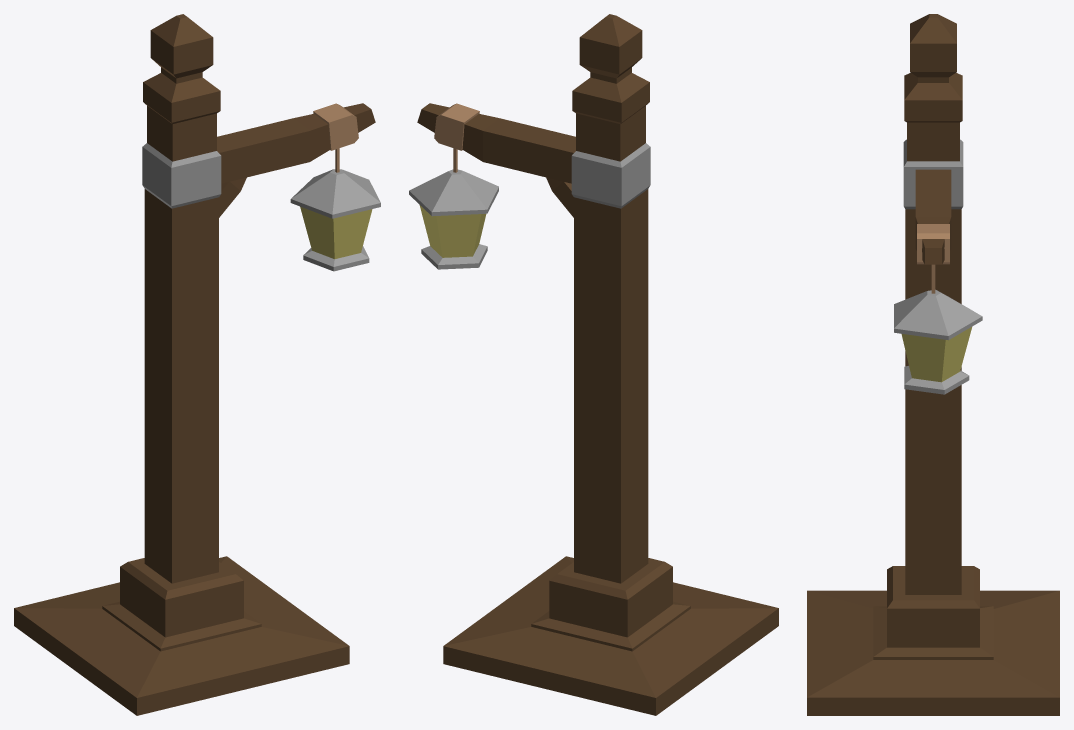
Rendered from lamp.fbx.
3 renders of one model, left to right at view 1: azimuth 30°, elevation 25°; view 2: azimuth 150°, elevation 25°; view 3: azimuth 270°, elevation 25°, orthographic. The views are drawn at different scales.
Visible parts, largest first — view 1: Cylinder; view 2: Cylinder; view 3: Cylinder.
Boxes of the visible parts, x1,y1,x2,y2 form: Cylinder: (14,14,380,715); Cylinder: (409,14,778,715); Cylinder: (807,14,1059,715).
Size of the model in its own units: 55 by 110 by 38.87.
